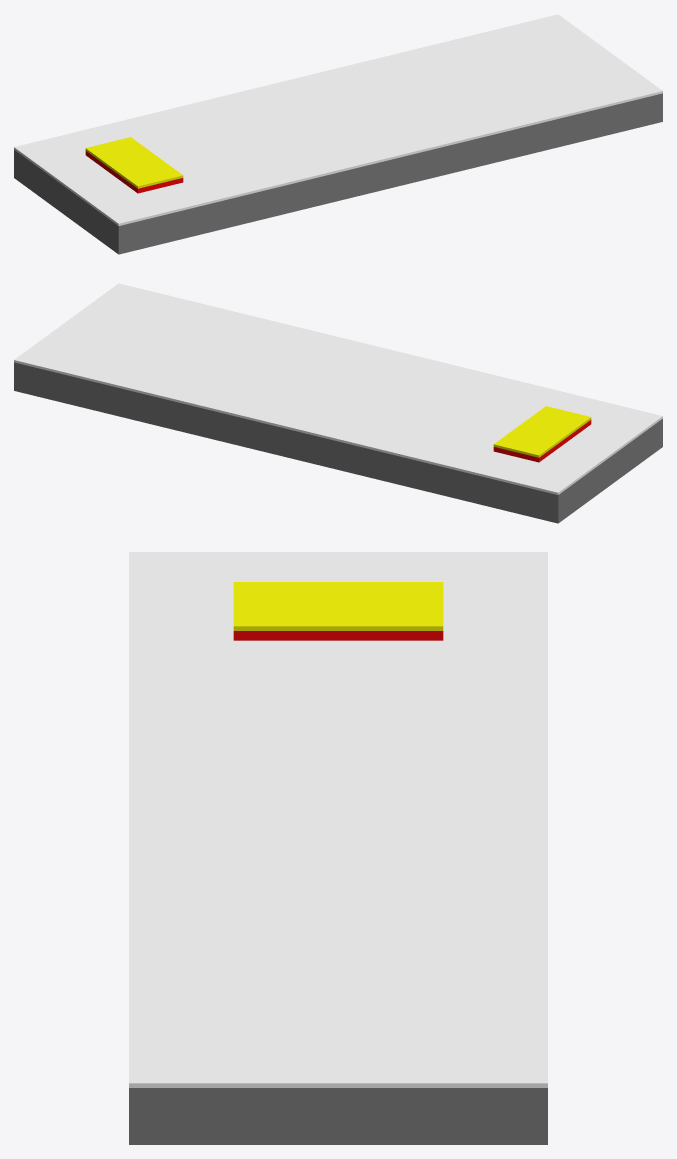
The model's file is Chữ nổi mica khung sắt.obj.
The picture shows the model from 3 angles, top to bottom: view 1: azimuth 30°, elevation 25°; view 2: azimuth 150°, elevation 25°; view 3: azimuth 270°, elevation 25°; orthographic projection. The views are drawn at different scales.
Visible parts, largest first — view 1: be_mat_bien, khung_sat, den_led, chu_noi; view 2: be_mat_bien, khung_sat, den_led, chu_noi; view 3: be_mat_bien, khung_sat, den_led, chu_noi.
Boxes of the visible parts, x1,y1,x2,y2 form: be_mat_bien: [14, 14, 662, 225]; khung_sat: [14, 93, 662, 254]; den_led: [85, 137, 183, 188]; chu_noi: [85, 151, 183, 193]; be_mat_bien: [14, 283, 662, 494]; khung_sat: [14, 362, 662, 523]; den_led: [493, 406, 591, 457]; chu_noi: [493, 420, 591, 462]; be_mat_bien: [129, 552, 547, 1087]; khung_sat: [129, 1088, 547, 1144]; den_led: [233, 582, 443, 630]; chu_noi: [233, 631, 443, 640].
Bounding box in the file's own units: 1.2 × 0.08 × 0.4.
